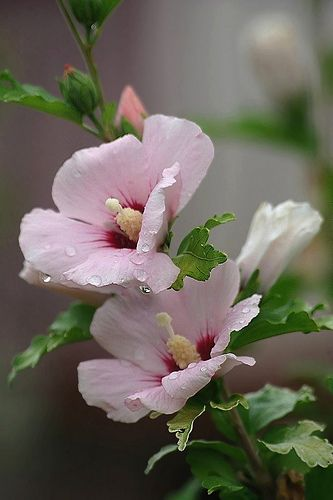Hibiscus: (3, 115, 230, 293), (64, 296, 268, 419), (240, 170, 324, 320), (115, 70, 163, 159), (54, 68, 100, 121)
